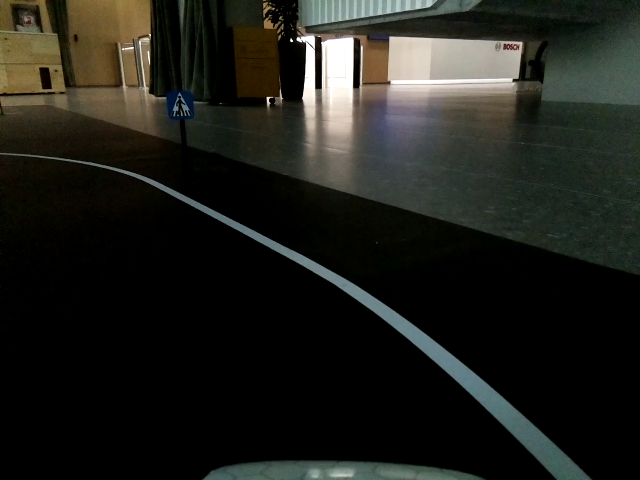pedestrians: (165, 91, 195, 123)
